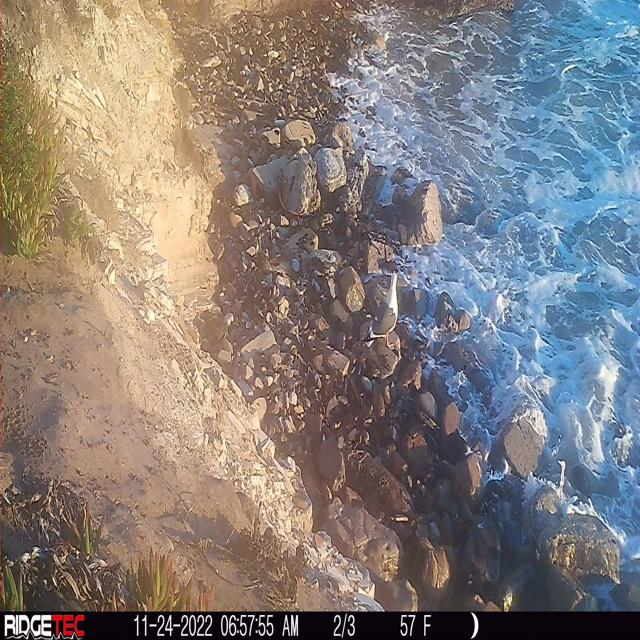bird: (359, 259, 408, 351)
